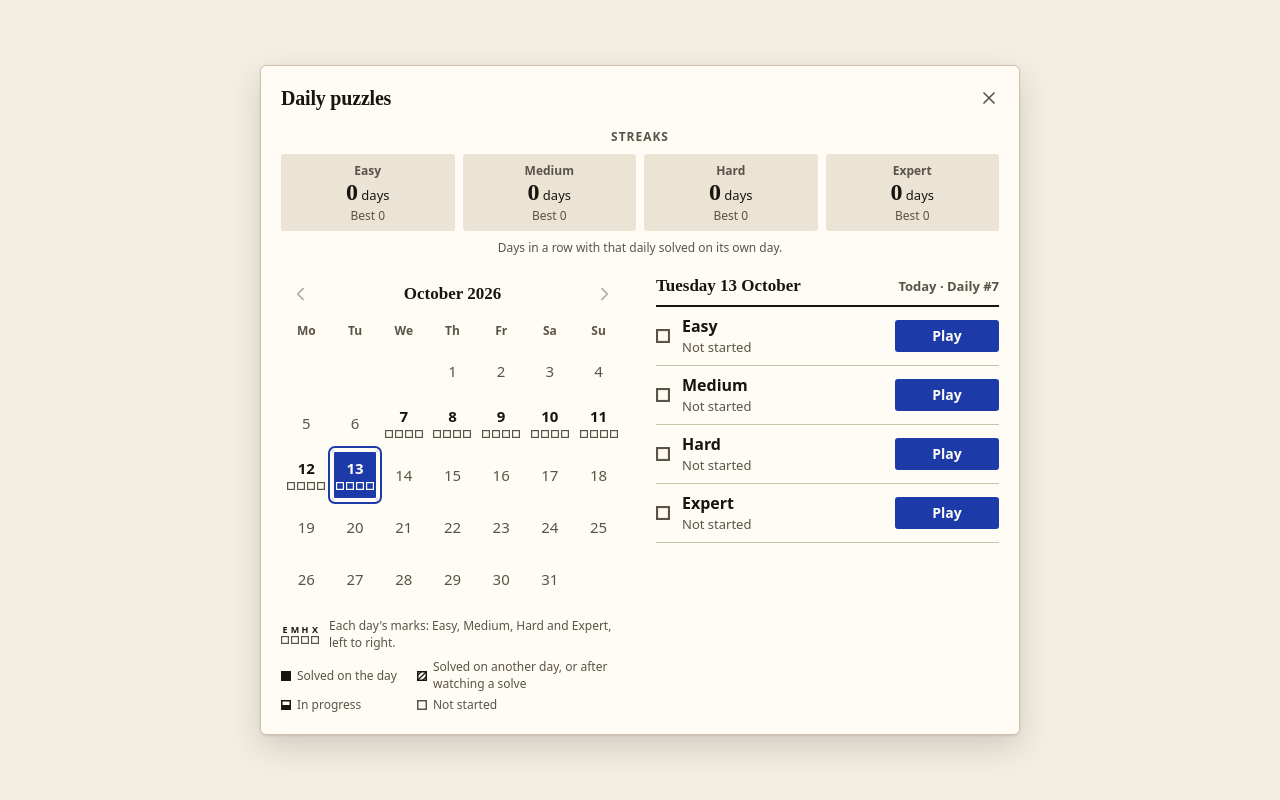
DailyDialog › shows the day chosen with its daily number, and today as today
expect the text "Today · Daily #7" is shown: met, box x1=898 y1=277 x2=999 y2=296
Click the cell "7". click: click(404, 423)
box: x1=380 y1=398 x2=427 y2=448
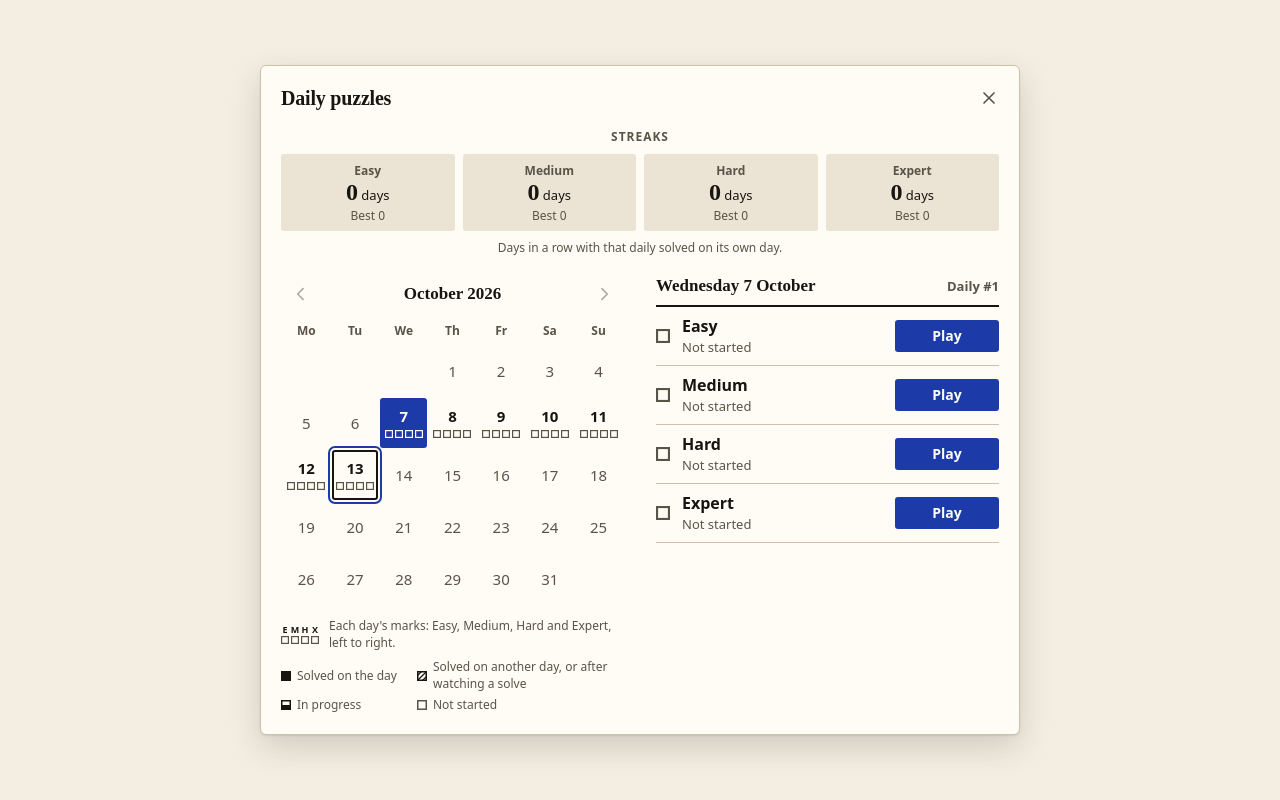
expect the text "Daily #1" is shown: met, box x1=947 y1=277 x2=999 y2=296
